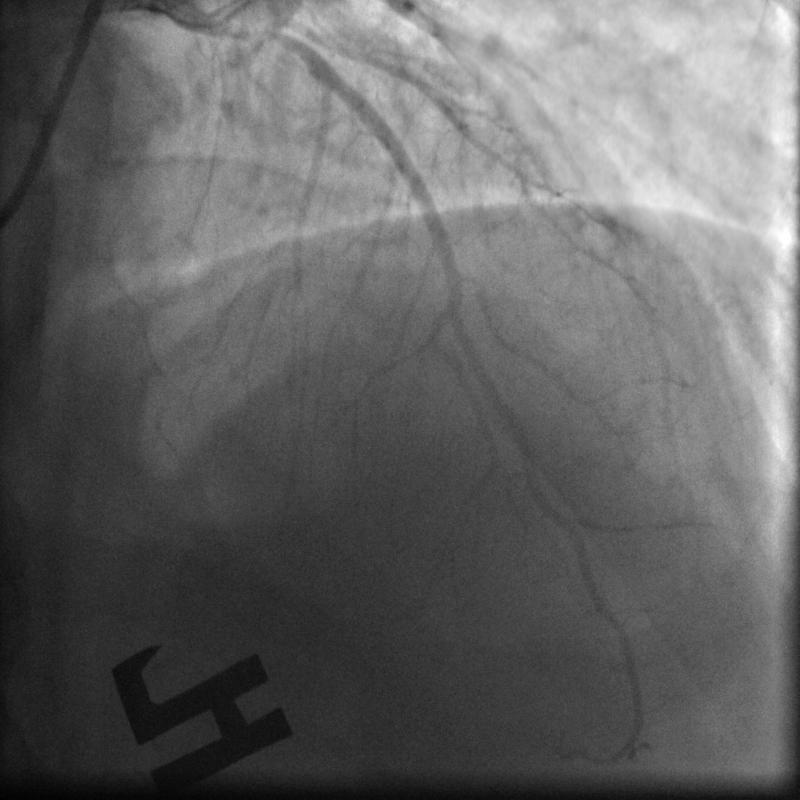Stenosis: (220, 15, 279, 47)
